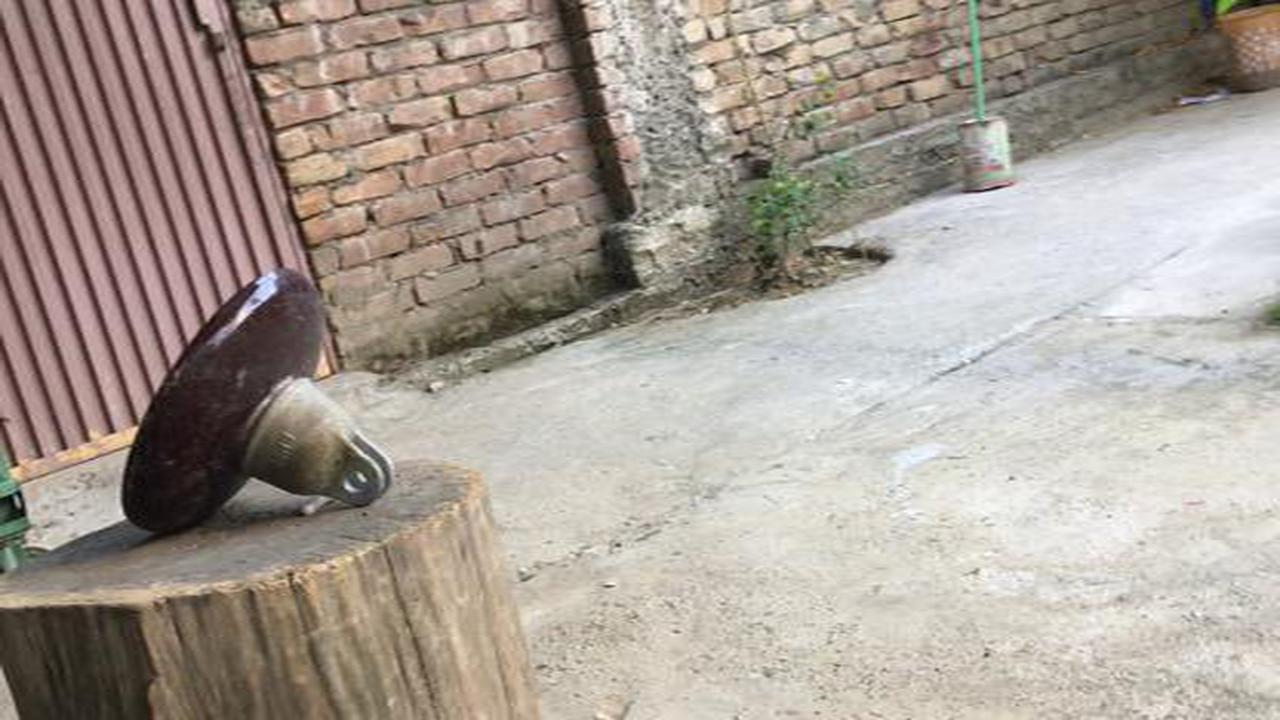insulator_disc: (115, 258, 397, 517)
